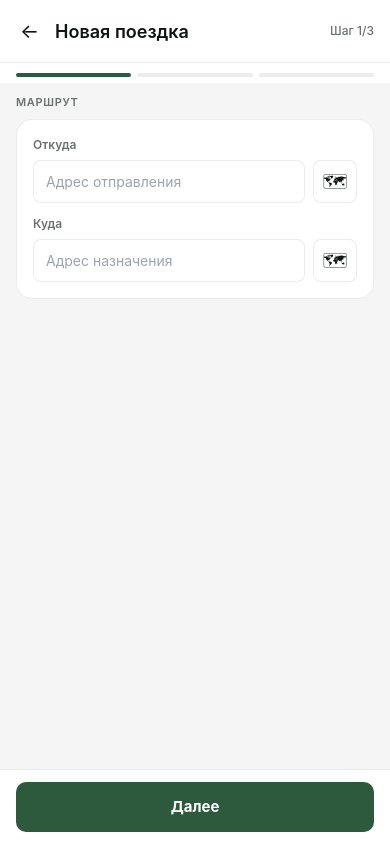
Scenario: CreateRideScreen › step 1: показывает ошибку если откуда пустое при next
Click the button with test id "next-step-btn".
click(195, 807)  # box [16, 782, 374, 832]
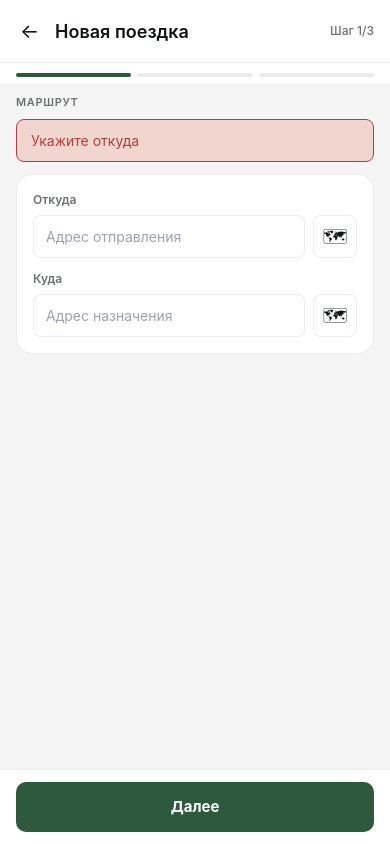
Result: the text with test id "form-error" reads "Укажите откуда" at [31, 132, 139, 149]
